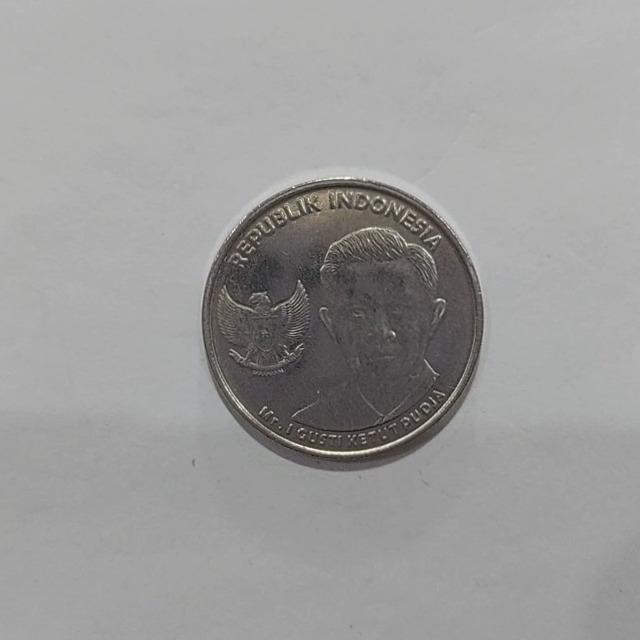Rp100: (200, 173, 485, 468), (287, 223, 450, 434)
